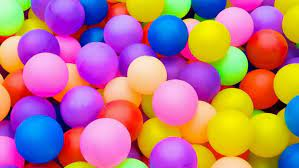Balloon: (80, 118, 131, 168), (14, 114, 63, 163), (152, 79, 198, 125), (22, 53, 68, 98), (207, 110, 249, 157), (76, 41, 120, 85), (188, 19, 230, 63), (249, 113, 288, 157), (247, 28, 288, 69), (148, 14, 188, 56), (127, 56, 167, 95), (61, 86, 101, 124), (149, 137, 197, 168), (17, 27, 59, 60), (45, 1, 85, 35), (242, 69, 277, 107), (103, 16, 142, 46), (274, 64, 299, 100), (1, 1, 24, 34)
